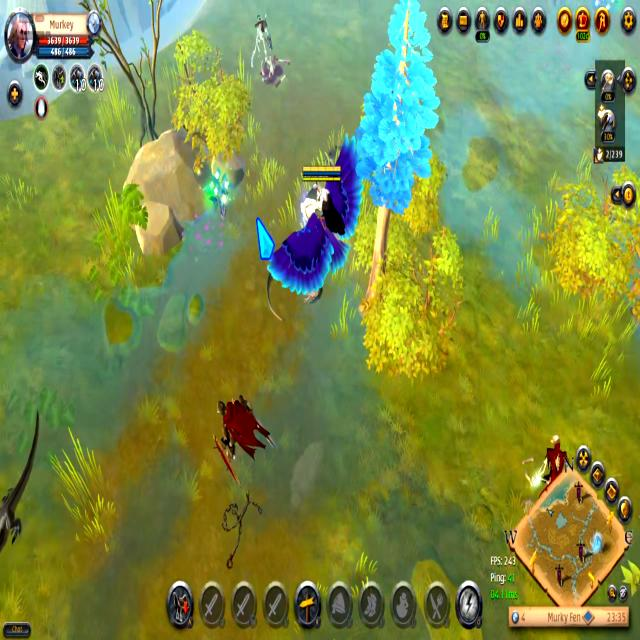hide: (204, 168, 230, 221)
ore: (0, 404, 46, 580), (207, 382, 283, 482), (525, 431, 572, 508), (249, 6, 277, 84)
red: (268, 135, 364, 309)
wisp caged: (356, 0, 448, 343)
